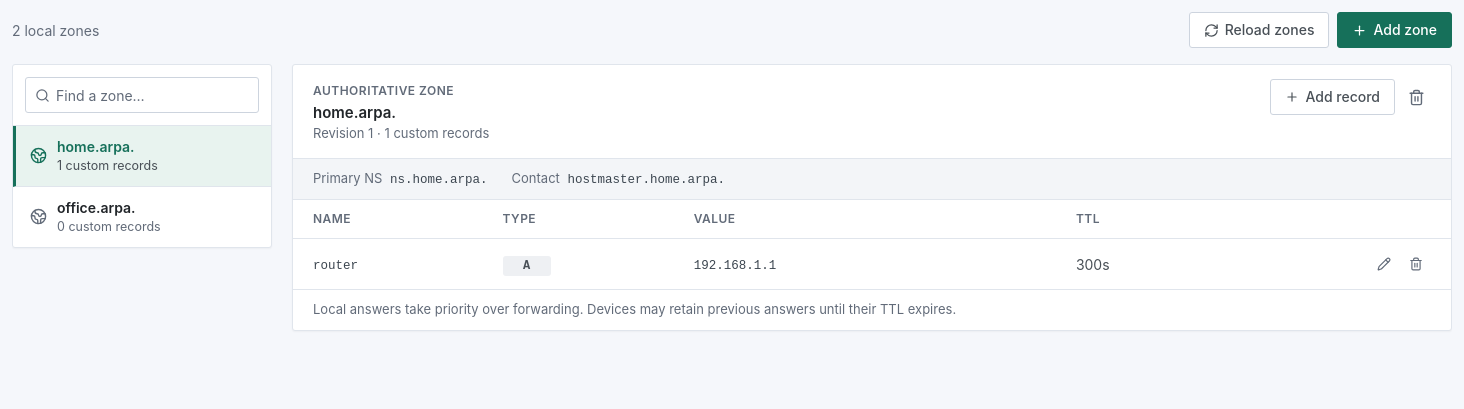
Scenario: only shows details for a zone matching the active search
The image size is (1464, 409).
Expected: the heading "home.arpa." is shown, [313, 103, 396, 122]
Step 1. Type "OFFICE" into the field with placeholder "Find a zone…" → {"x": 142, "y": 95}, box [25, 77, 259, 113]
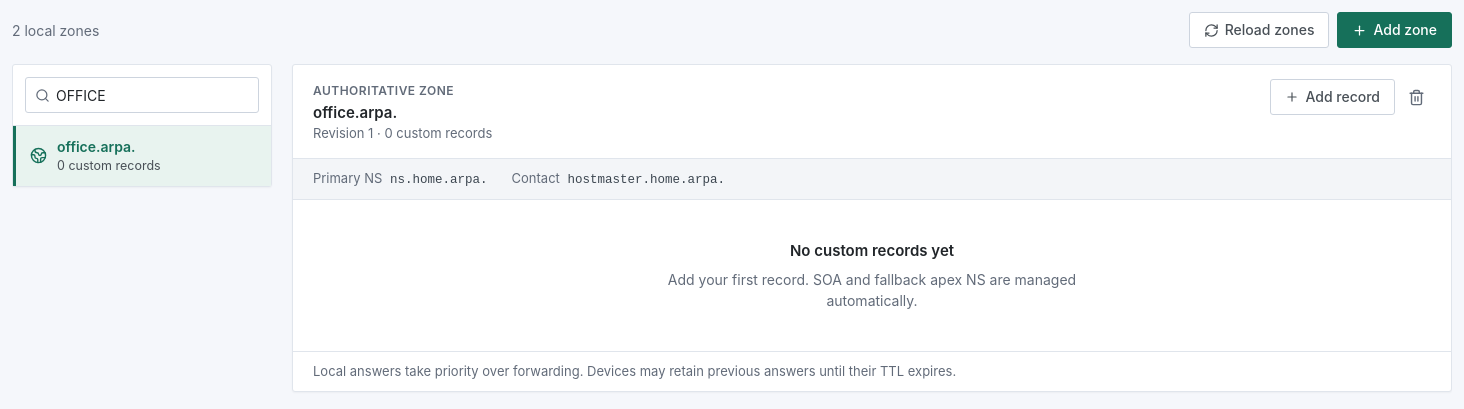
Now the heading "office.arpa." is shown, box [313, 103, 397, 122]
Step 2. Replace the text in the field with placeholder "Find a zone…" with "missing" → {"x": 142, "y": 95}, box [25, 77, 259, 113]
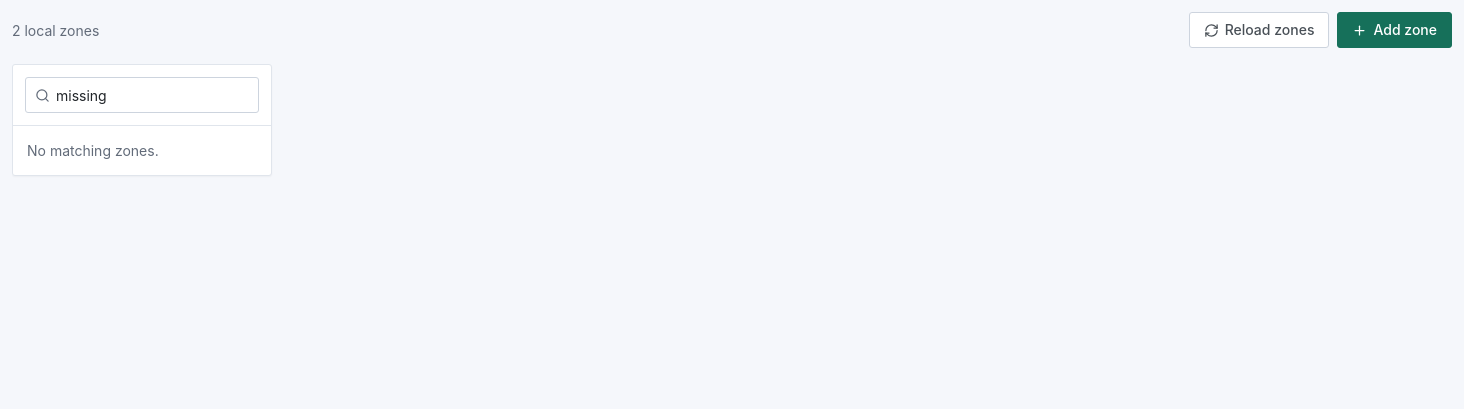
Now the text "No matching zones." is shown, box [27, 142, 159, 159]
Now the button "Add record" is gone
